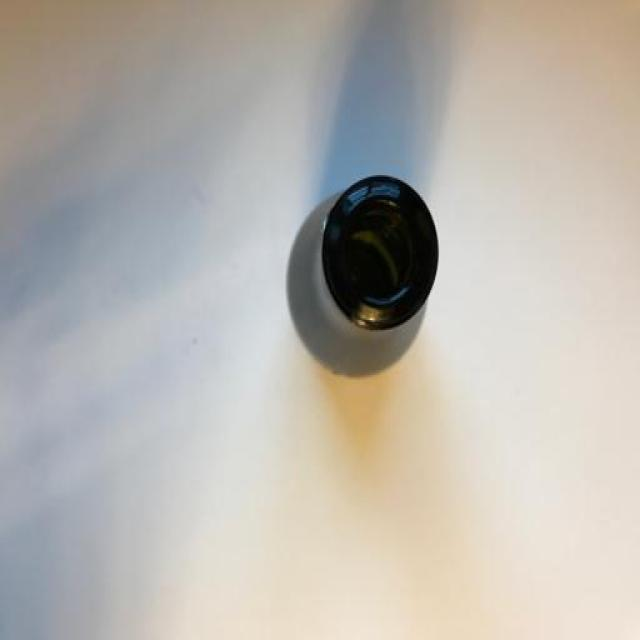glass: (281, 174, 441, 376)
